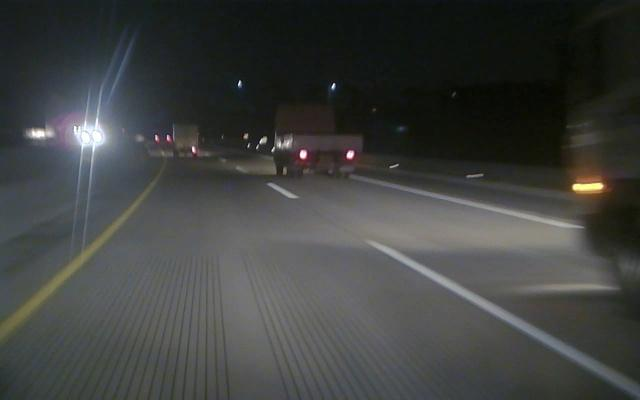lane: (271, 182, 633, 395), (1, 190, 146, 344), (359, 174, 580, 232)
